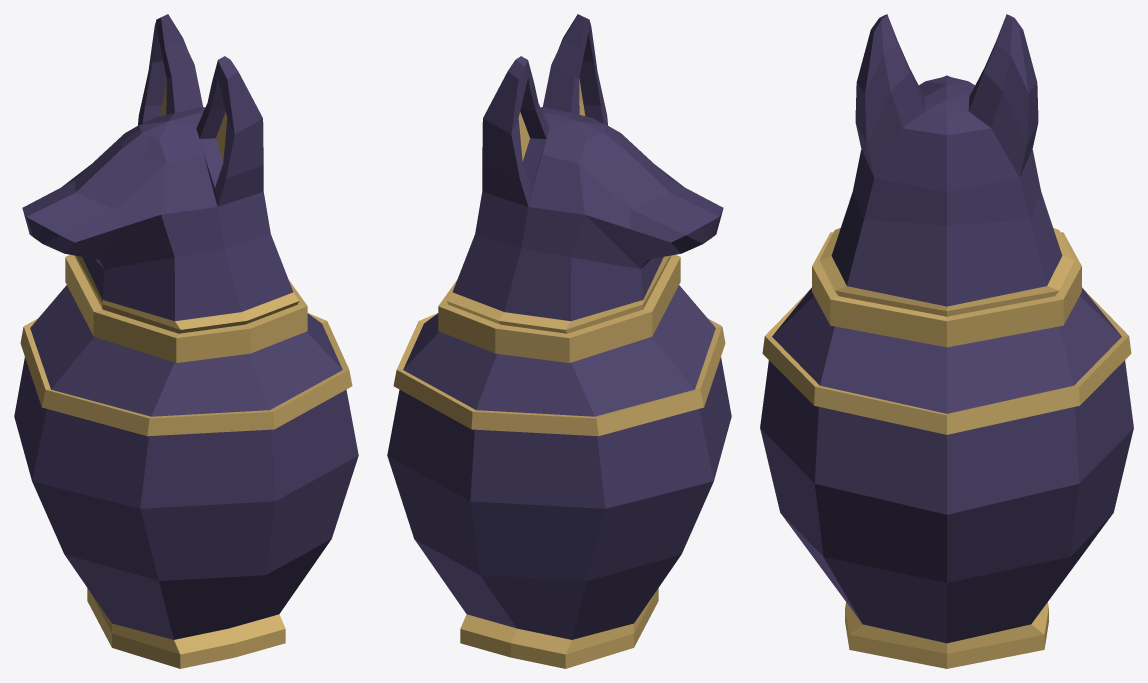
Rendered from Anuurn.fbx.
3 renders of one model, left to right at view 1: azimuth 30°, elevation 25°; view 2: azimuth 150°, elevation 25°; view 3: azimuth 270°, elevation 25°, orthographic. The views are drawn at different scales.
Visible parts, largest first — view 1: Cylinder; view 2: Cylinder; view 3: Cylinder.
Part boxes in pixels (x1,y1,x2,y2): Cylinder: (14,14,358,668); Cylinder: (387,14,731,668); Cylinder: (760,14,1133,668).
Size of the model in its own units: 204 by 366 by 200.
